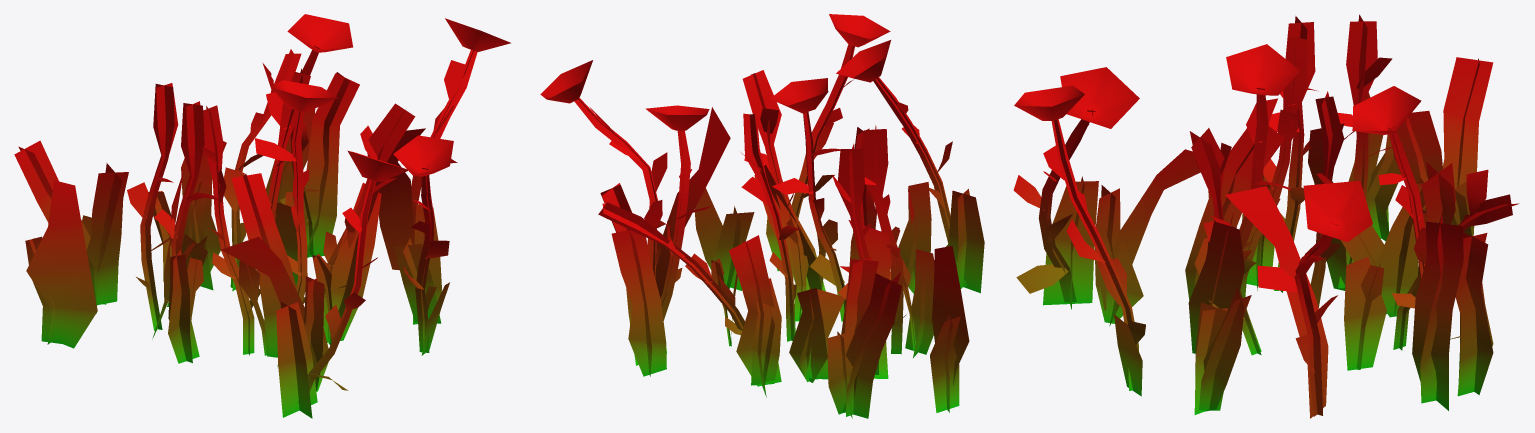
The model's file is Var6_LOD0.fbx.
3 renders of one model, left to right at view 1: azimuth 30°, elevation 25°; view 2: azimuth 150°, elevation 25°; view 3: azimuth 270°, elevation 25°, orthographic. The views are drawn at different scales.
Visible parts, largest first — view 1: _f4d2_Var6_LOD0; view 2: _f4d2_Var6_LOD0; view 3: _f4d2_Var6_LOD0.
Part boxes in pixels (box(x1,y1,x2,y2)): _f4d2_Var6_LOD0: box(14, 14, 510, 418); _f4d2_Var6_LOD0: box(540, 14, 984, 418); _f4d2_Var6_LOD0: box(1013, 14, 1519, 418).
Size of the model in its own units: 16.43 by 8.82 by 13.45.
